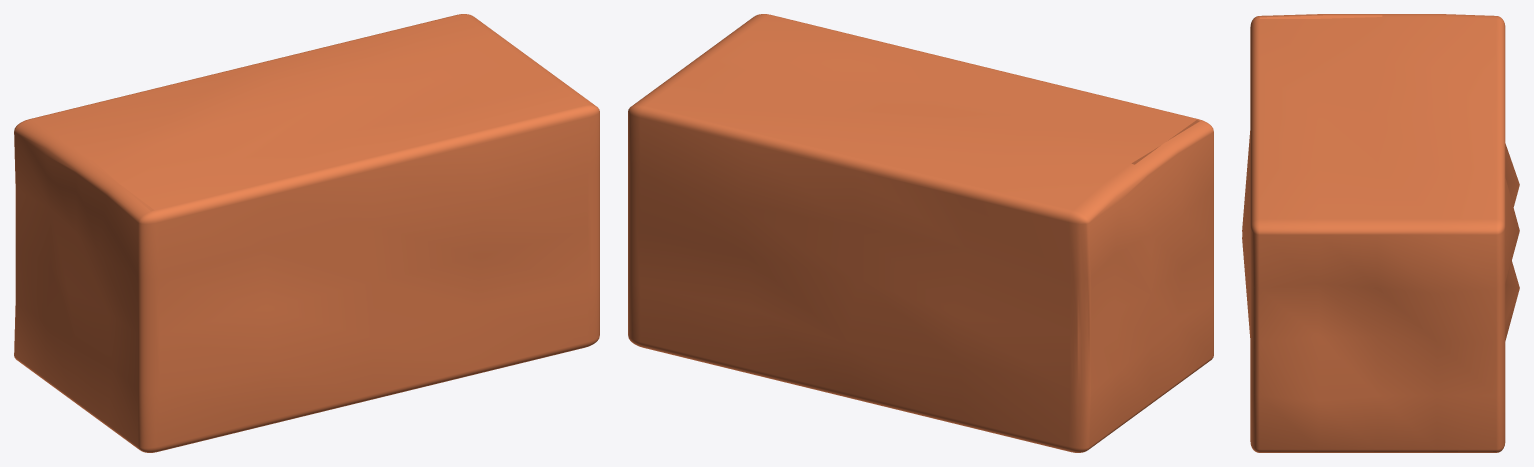
The picture shows the model from 3 angles, left to right: view 1: azimuth 30°, elevation 25°; view 2: azimuth 150°, elevation 25°; view 3: azimuth 270°, elevation 25°; orthographic projection. The views are drawn at different scales.
Parts seen in each view (by area): view 1: Cube; view 2: Cube; view 3: Cube.
Boxes of the visible parts, box(x1,y1,x2,y2) form: Cube: box(14, 14, 599, 452); Cube: box(628, 14, 1213, 452); Cube: box(1242, 14, 1519, 452).
Bounding box in the file's own units: 207 × 103 × 109.
